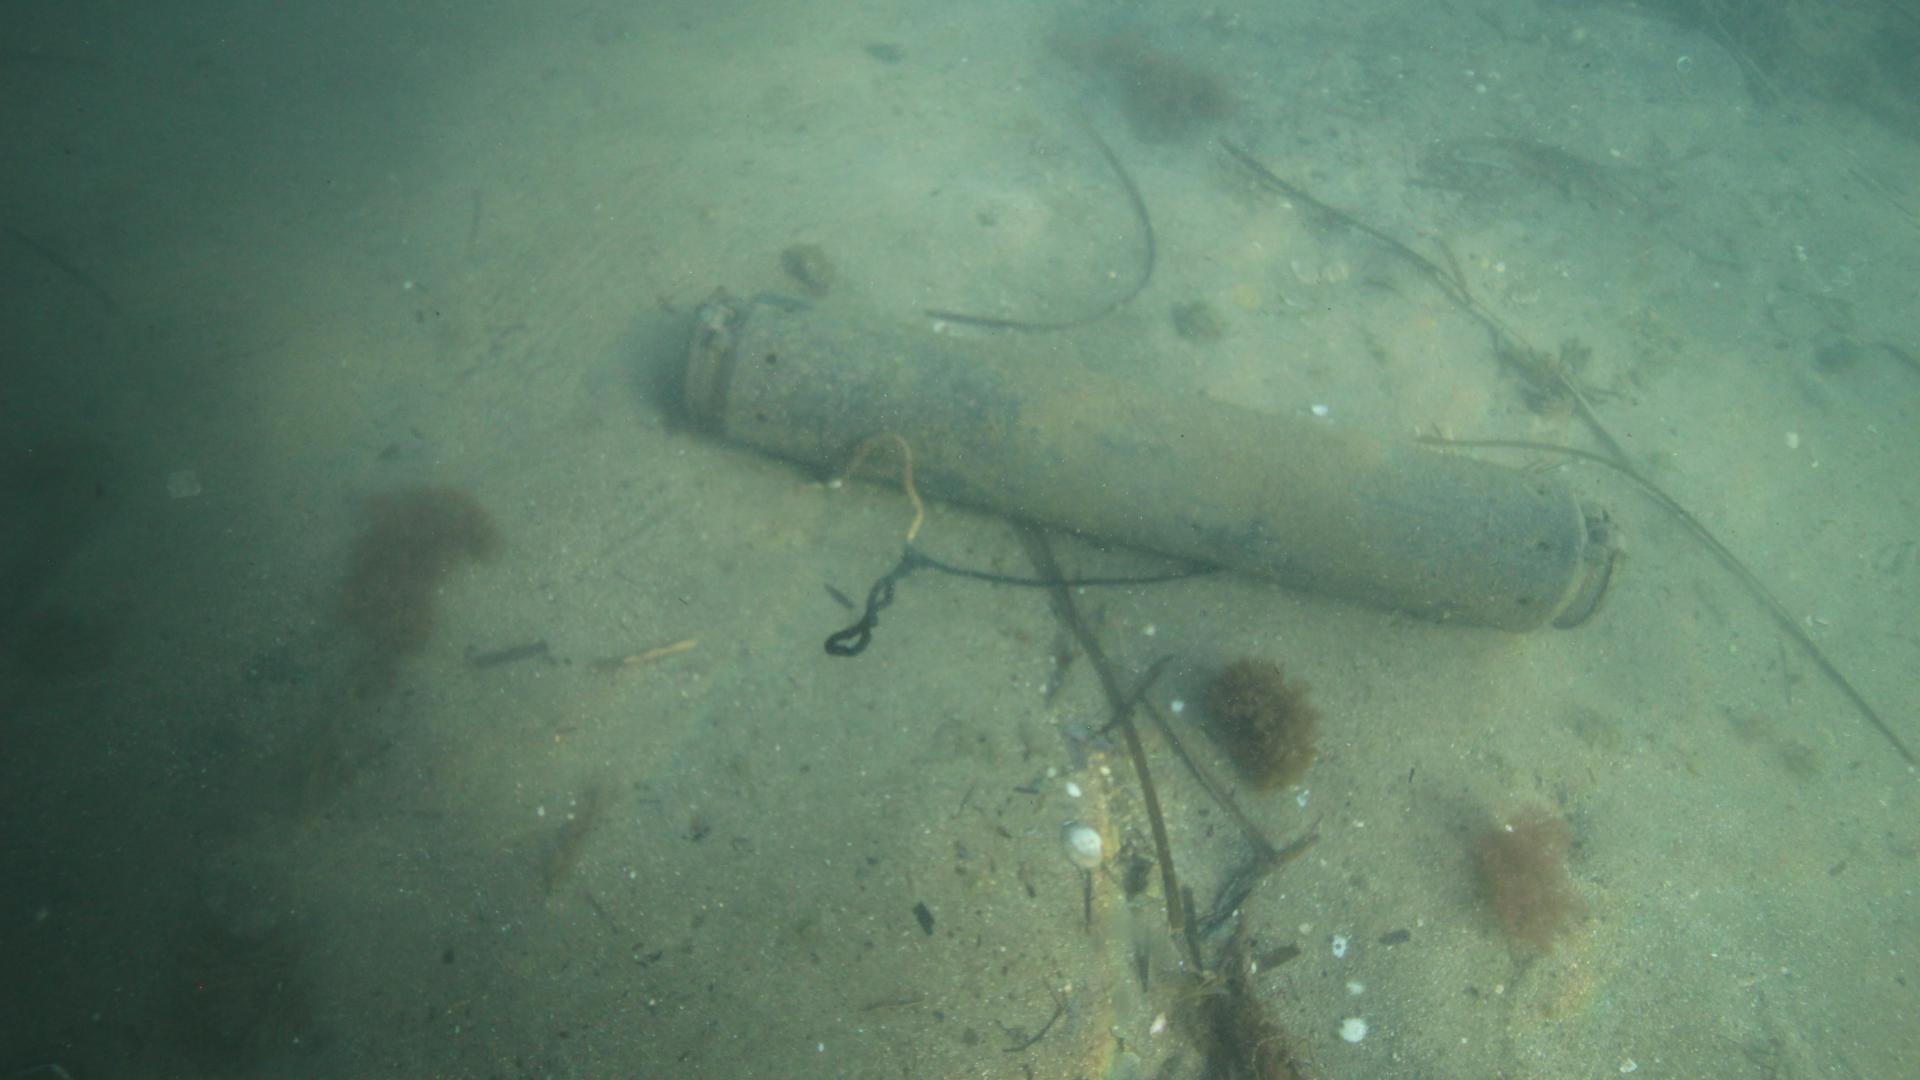eel fish trap: (675, 281, 1636, 636)
rope: (820, 429, 1224, 659)
